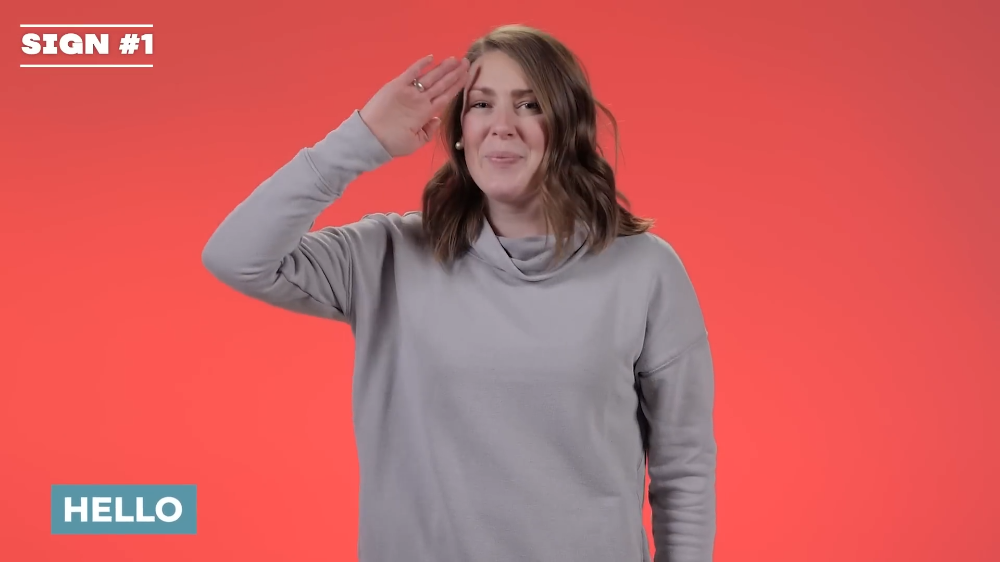hello: (368, 46, 477, 154)
